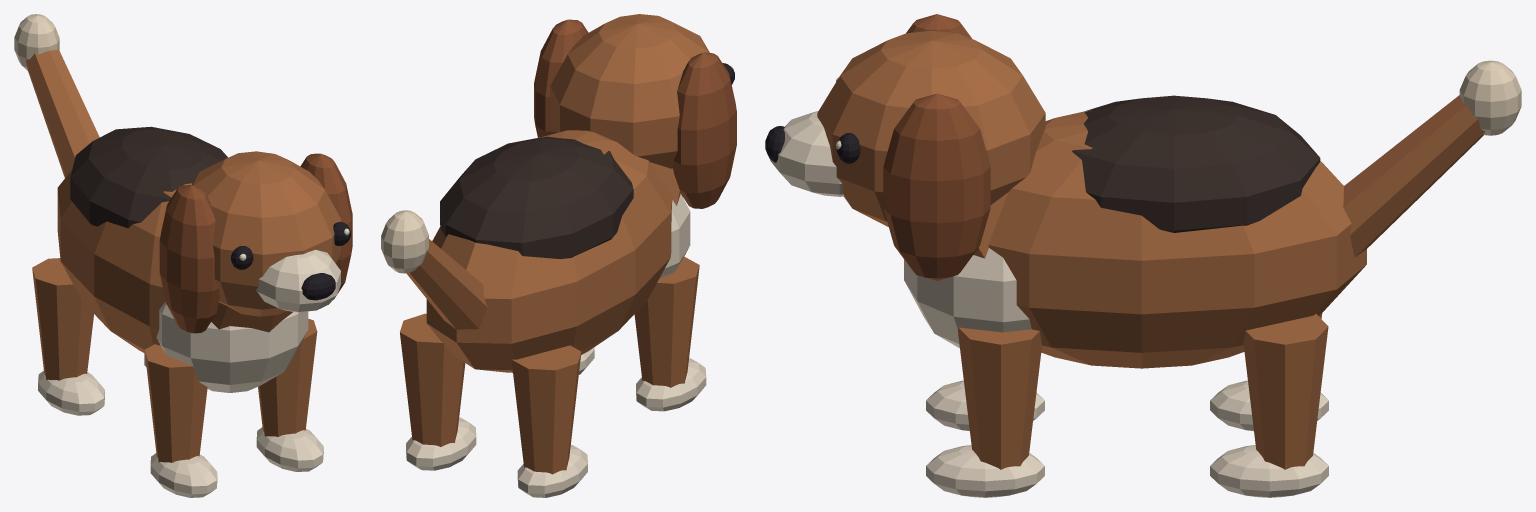
Rendered from beagle.fbx.
3 views of the same model, side by side, from view 1: azimuth 30°, elevation 25°; view 2: azimuth 150°, elevation 25°; view 3: azimuth 270°, elevation 25° (orthographic). The views are drawn at different scales.
Parts seen in each view (by area): view 1: Body, HindLeft, ForeLeft, Tail, ForeRight; view 2: Body, HindLeft, HindRight, ForeLeft, Tail; view 3: Body, HindRight, ForeRight, Tail, HindLeft, ForeLeft.
Part boxes in pixels (x1,y1,x2,y2): Body: (57,126,352,392); HindLeft: (32,258,104,415); ForeLeft: (144,344,217,497); Tail: (14,14,99,177); ForeRight: (256,319,323,471); Body: (426,14,736,372); HindLeft: (511,345,587,497); HindRight: (400,313,476,470); ForeLeft: (634,256,706,411); Tail: (381,210,487,329); Body: (765,14,1366,368); HindRight: (1210,314,1328,497); ForeRight: (926,327,1044,497); Tail: (1343,60,1521,257); HindLeft: (1210,313,1328,431); ForeLeft: (926,380,1044,431).
Bounding box in the file's own units: 47.26 × 84.24 × 138.
